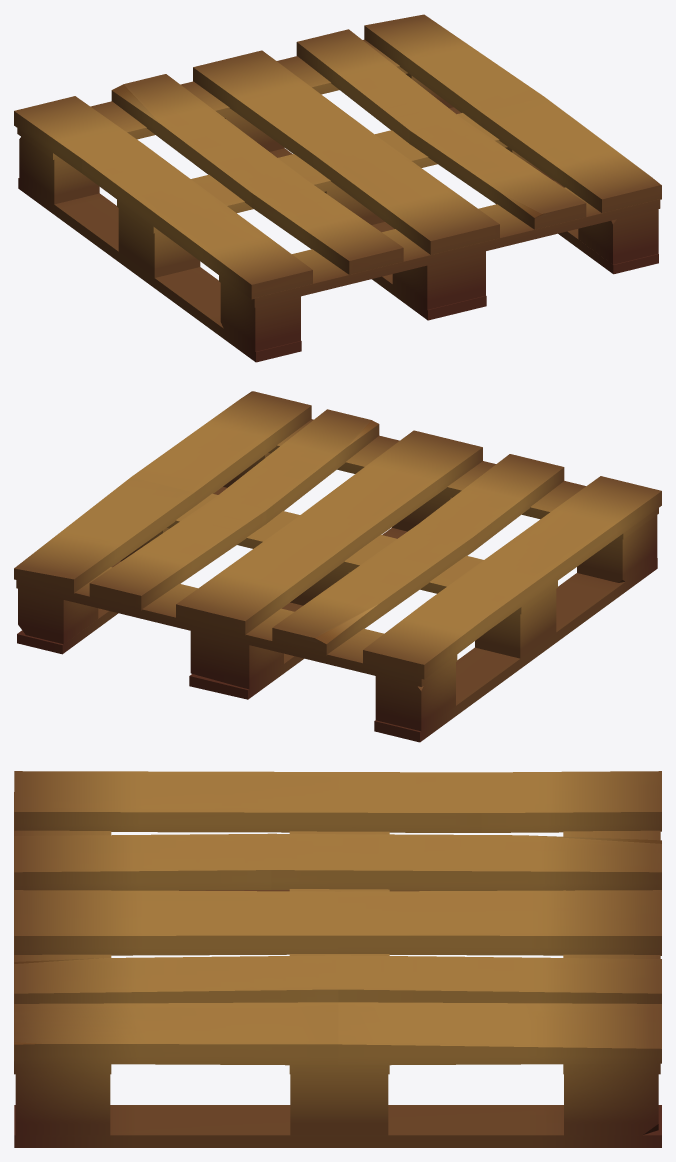
The model's file is WoodenPallet.glb.
3 renders of one model, top to bottom at view 1: azimuth 30°, elevation 25°; view 2: azimuth 150°, elevation 25°; view 3: azimuth 270°, elevation 25°, orthographic. The views are drawn at different scales.
Parts seen in each view (by area): view 1: Cube; view 2: Cube; view 3: Cube.
Boxes of the visible parts, x1=… form: Cube: x1=14, y1=14, x2=661, y2=362; Cube: x1=14, y1=391, x2=661, y2=742; Cube: x1=14, y1=771, x2=661, y2=1147.
Size of the model in its own units: 1 by 0.1834 by 1.
Materials: 1 (1 with a texture image).
